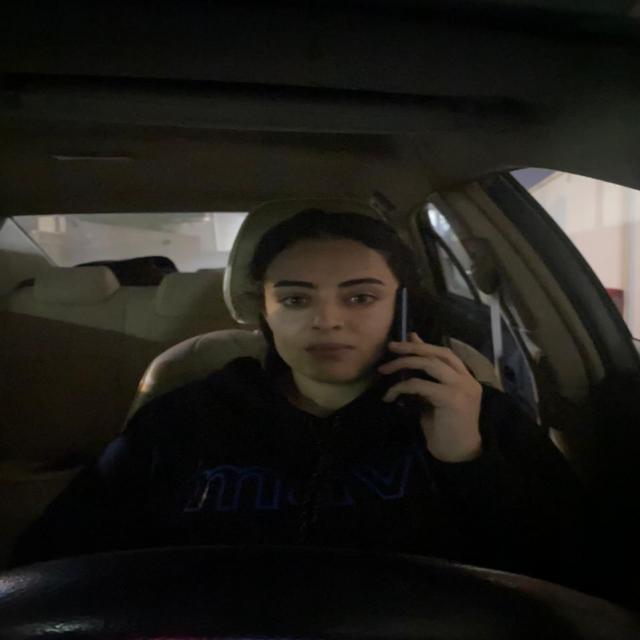mobile: (400, 277, 458, 340)
person: (257, 228, 396, 386)
